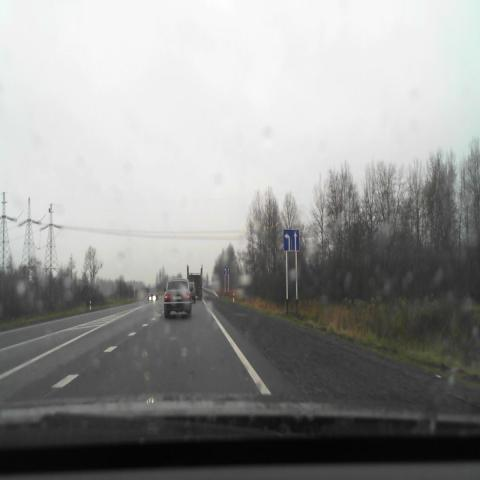5_15_2_2: (283, 230, 300, 252)
